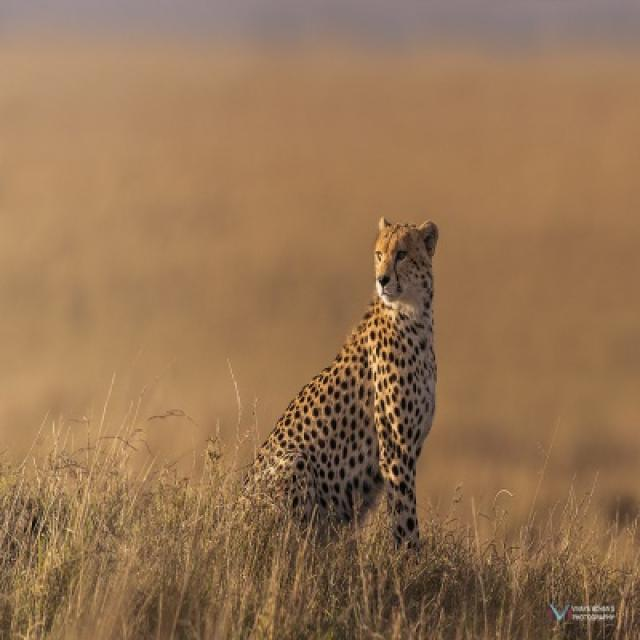Cheetah: (248, 218, 438, 550)
